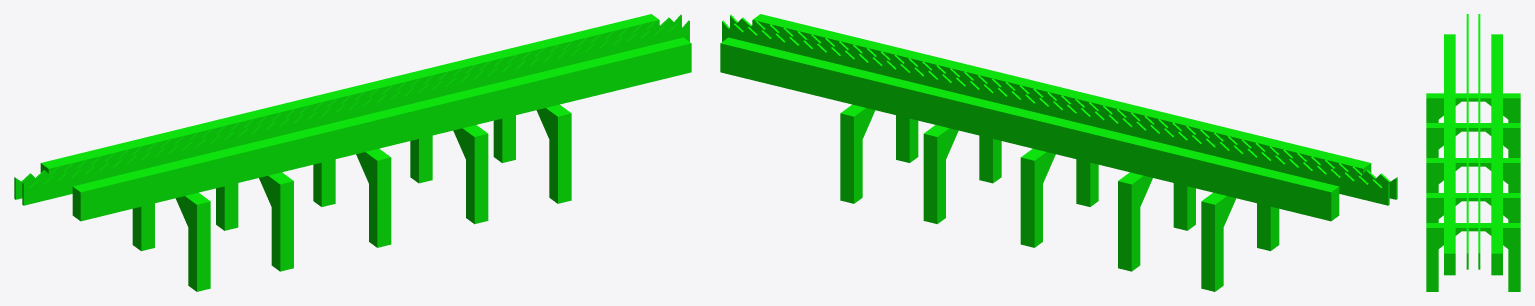
The model's file is Casting_End.fbx.
The picture shows the model from 3 angles, left to right: view 1: azimuth 30°, elevation 25°; view 2: azimuth 150°, elevation 25°; view 3: azimuth 270°, elevation 25°; orthographic projection. The views are drawn at different scales.
Parts seen in each view (by area): view 1: Casting_End_LOD0; view 2: Casting_End_LOD0; view 3: Casting_End_LOD0.
Part boxes in pixels (x1,y1,x2,y2): Casting_End_LOD0: (14,14,691,291); Casting_End_LOD0: (720,14,1397,291); Casting_End_LOD0: (1426,14,1520,291).
Size of what is drawn, in the model's own units: 600 by 106 by 100.
